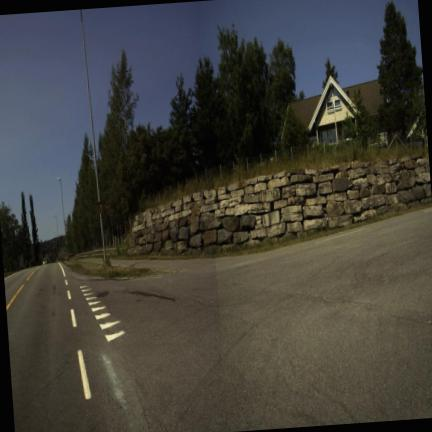Road: (4, 209, 431, 431)
